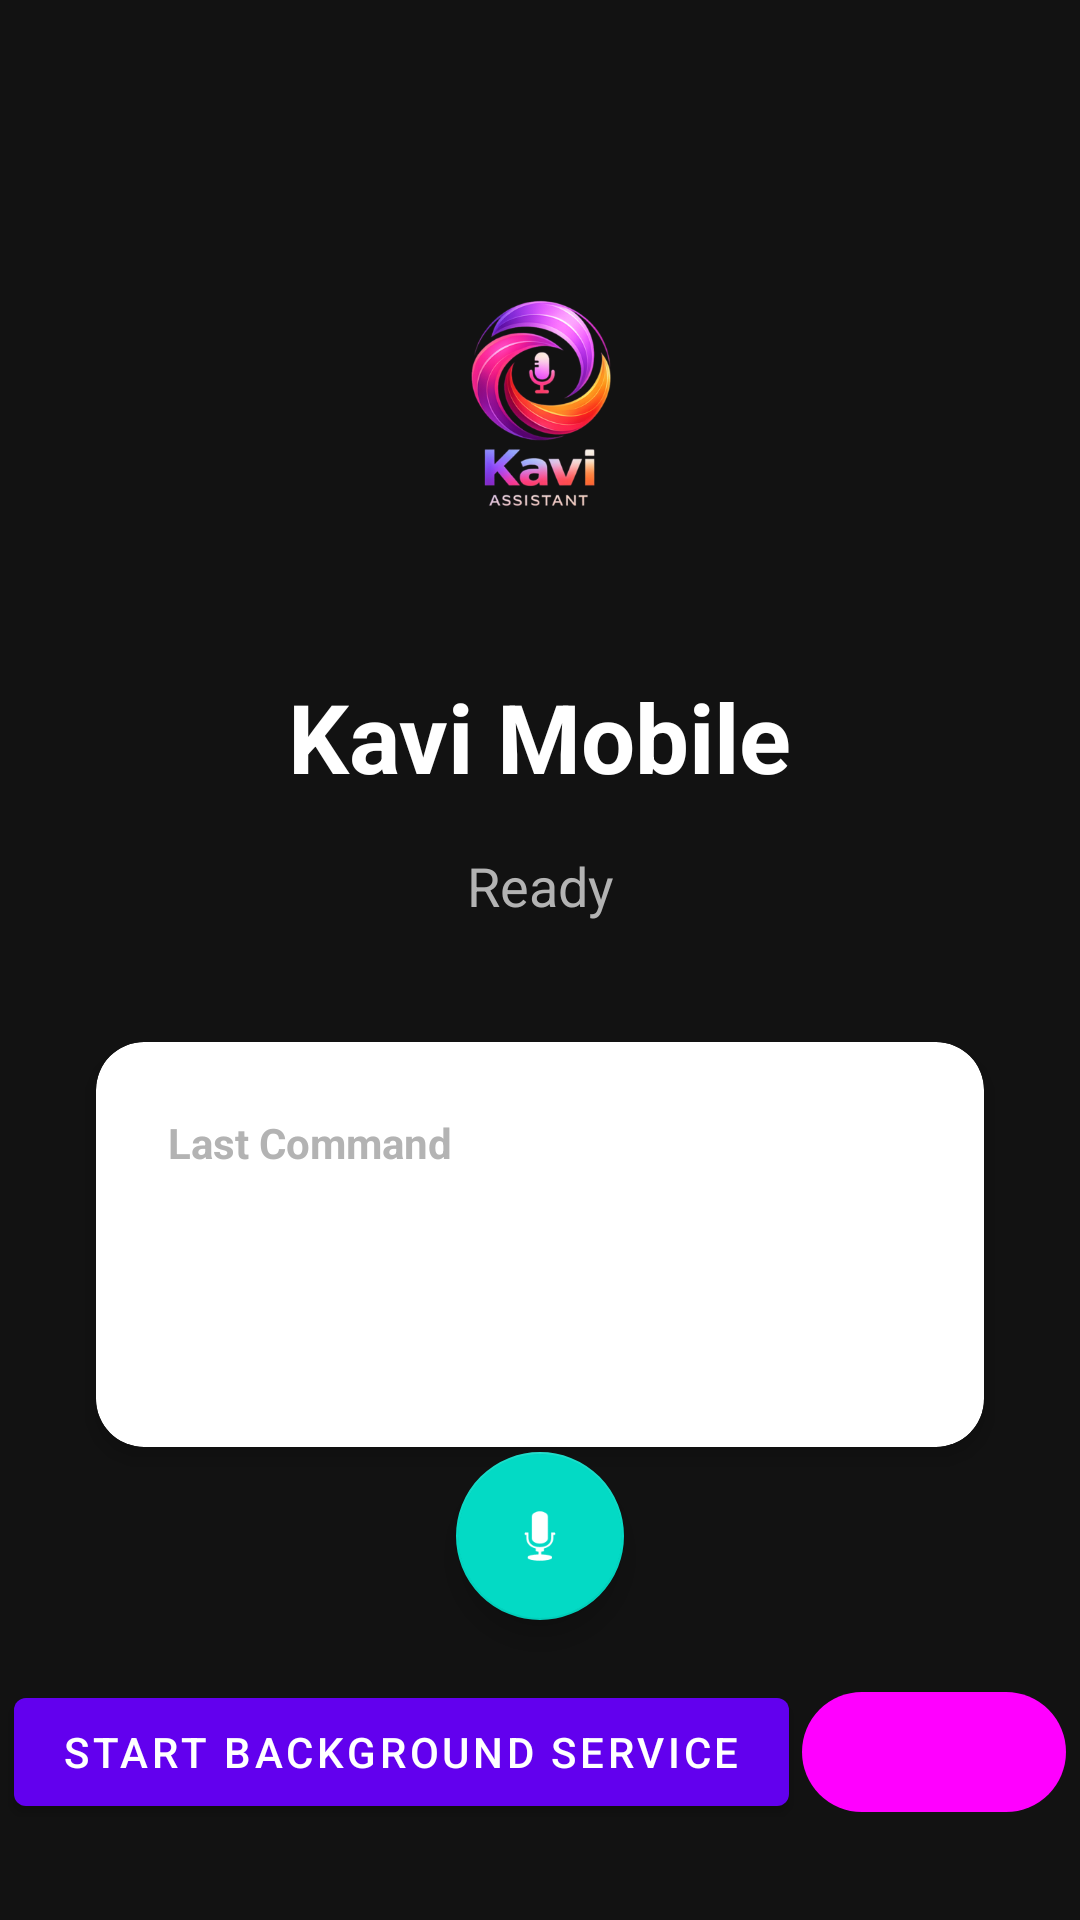

Screen size 1080 x 1920. Icon name, then its box in pixels as bbox=[x1, y1, x2, y2]:
Tap to speak: bbox=[456, 1452, 624, 1620]
